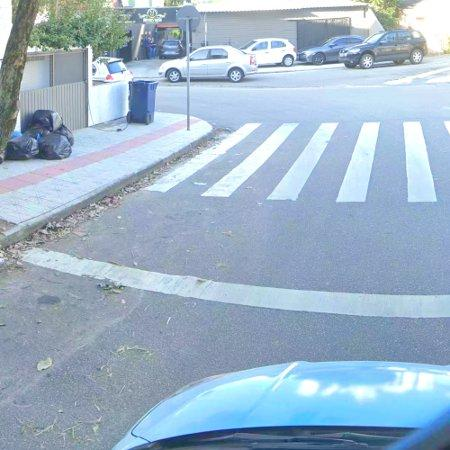crosswalks: (149, 121, 437, 203)
